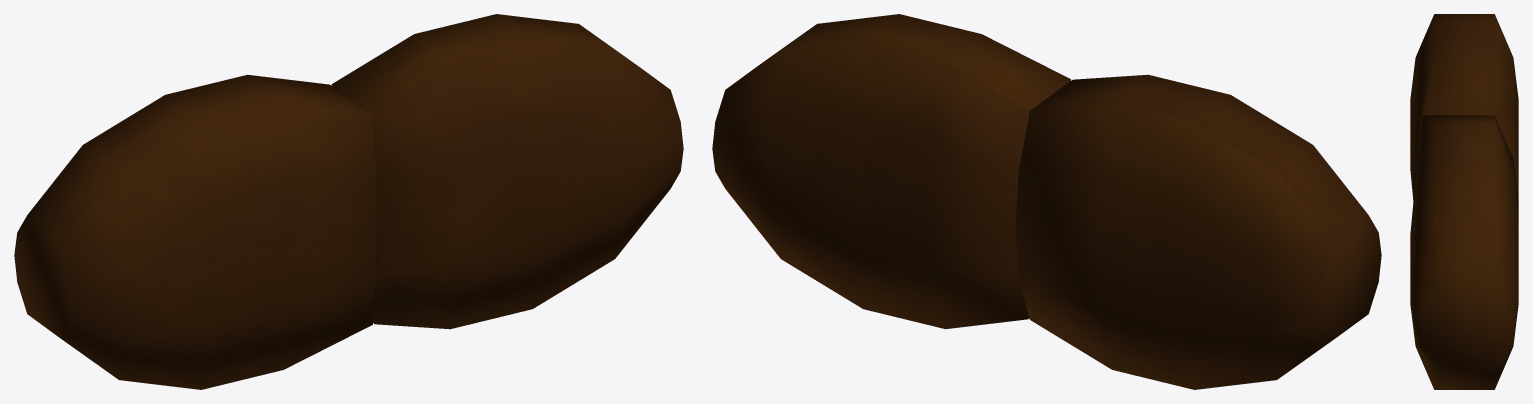
The model's file is Bigode.fbx.
3 views of the same model, side by side, from view 1: azimuth 30°, elevation 25°; view 2: azimuth 150°, elevation 25°; view 3: azimuth 270°, elevation 25° (orthographic). The views are drawn at different scales.
Parts seen in each view (by area): view 1: Bigode; view 2: Bigode; view 3: Bigode.
Part boxes in pixels (x1,y1,x2,y2): Bigode: [14, 14, 683, 389]; Bigode: [712, 14, 1381, 389]; Bigode: [1410, 14, 1518, 389].
Bounding box in the file's own units: 197 × 82.73 × 36.35.
